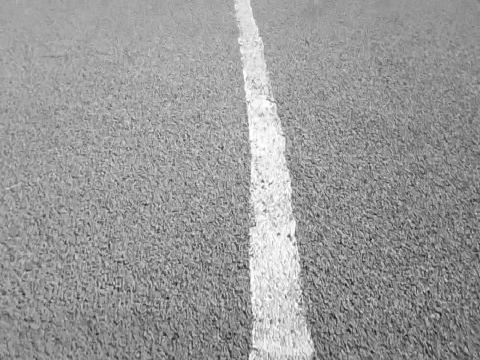Lines: (234, 0, 316, 360)
